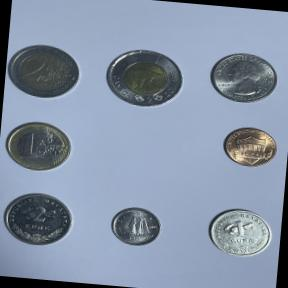coin: (98, 43, 190, 114), (0, 187, 80, 251), (4, 40, 85, 103), (204, 47, 284, 108), (0, 117, 78, 176), (218, 122, 282, 171), (107, 202, 167, 251)
